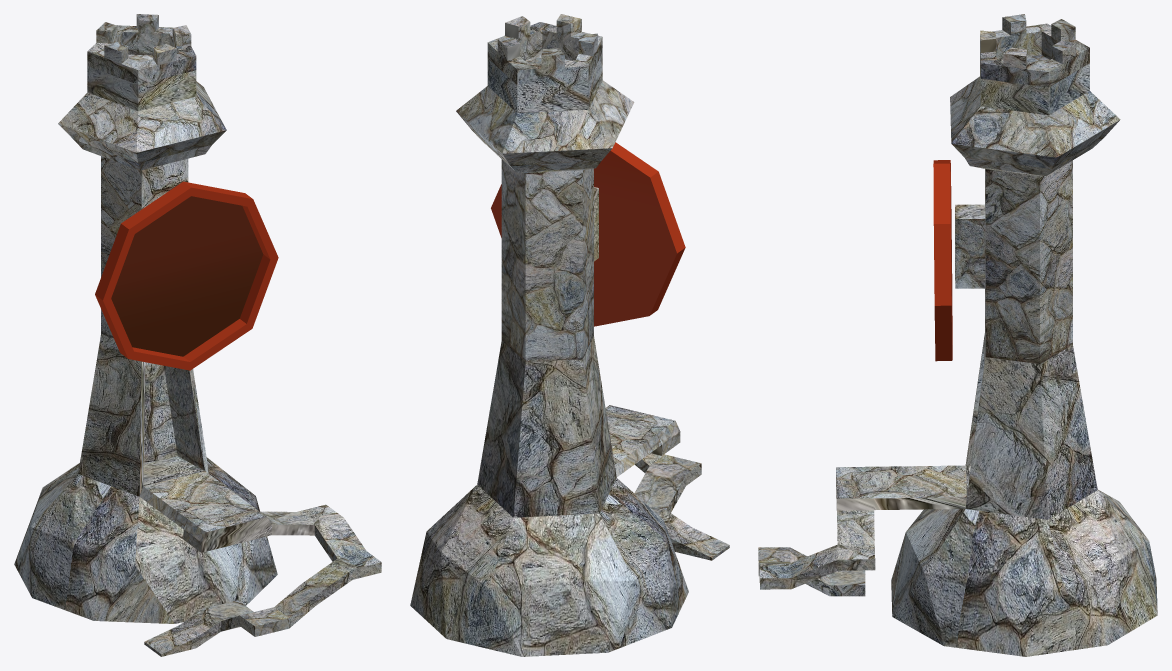
File: RELOJ.fbx
3 renders of one model, left to right at view 1: azimuth 30°, elevation 25°; view 2: azimuth 150°, elevation 25°; view 3: azimuth 270°, elevation 25°, orthographic. The views are drawn at different scales.
Visible parts, largest first — view 1: BASE TORRE, TORRE, RELOJ; view 2: TORRE, BASE TORRE, RELOJ; view 3: TORRE, BASE TORRE, RELOJ.
Part boxes in pixels (bbox=[...]): BASE TORRE: bbox=[14, 456, 381, 656]; TORRE: bbox=[58, 14, 226, 496]; RELOJ: bbox=[95, 181, 278, 370]; TORRE: bbox=[456, 14, 634, 517]; BASE TORRE: bbox=[410, 405, 729, 656]; RELOJ: bbox=[491, 142, 685, 326]; TORRE: bbox=[950, 14, 1120, 519]; BASE TORRE: bbox=[758, 465, 1157, 656]; RELOJ: bbox=[933, 160, 952, 361].
Size of the model in its own units: 200 by 446 by 286.
